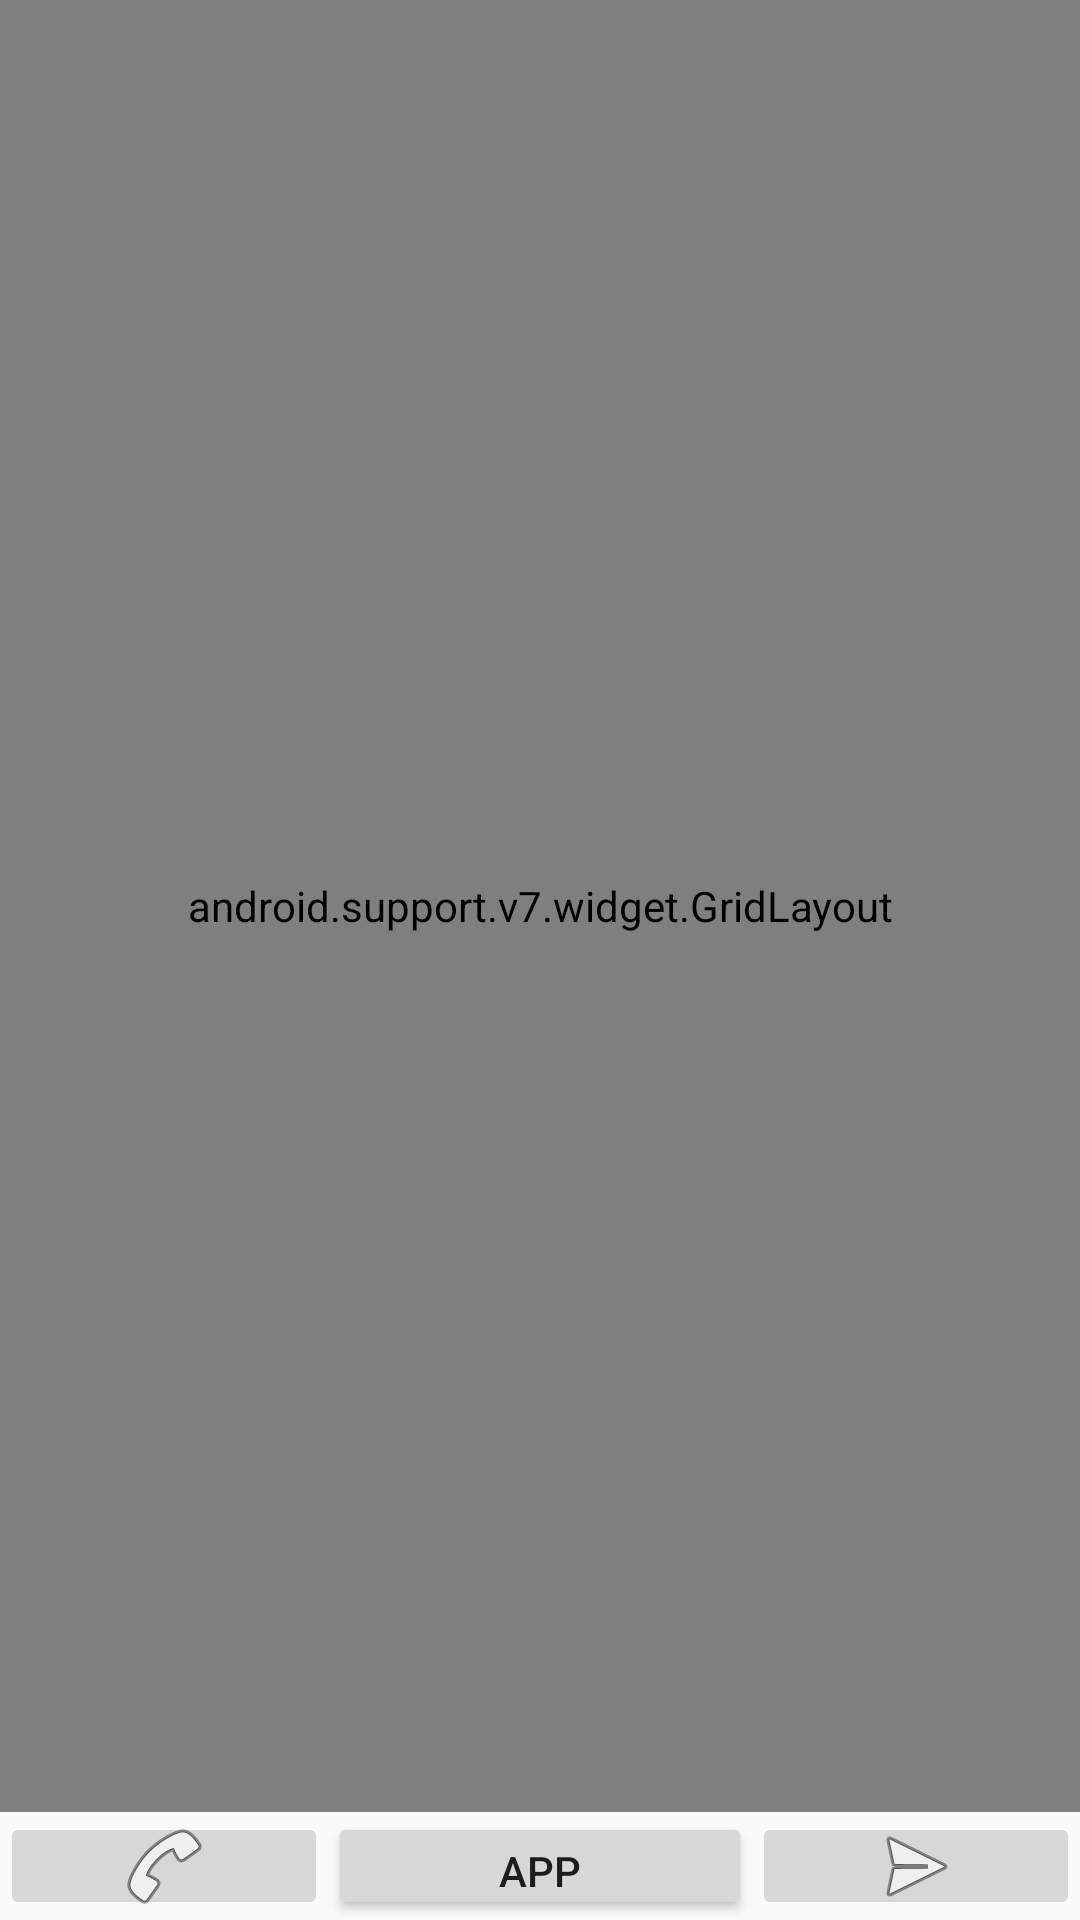

Named icons in this screenshot (1080 × 1920) and their bounding boxes, {"x1": x1, "y1": y1, "x2": x2, "y2": y2}:
call: {"x1": 0, "y1": 1812, "x2": 328, "y2": 1920}
send: {"x1": 752, "y1": 1812, "x2": 1080, "y2": 1920}
